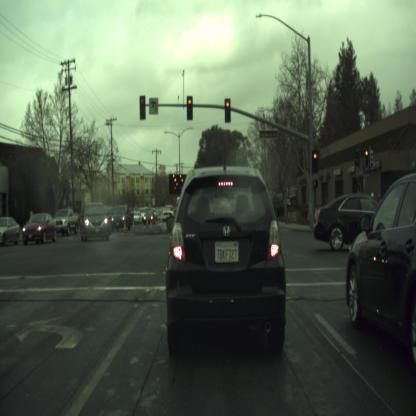Red: (186, 96, 192, 120), (224, 98, 230, 122), (312, 150, 317, 172), (364, 150, 368, 166)
RedLeft: (140, 95, 146, 118)
